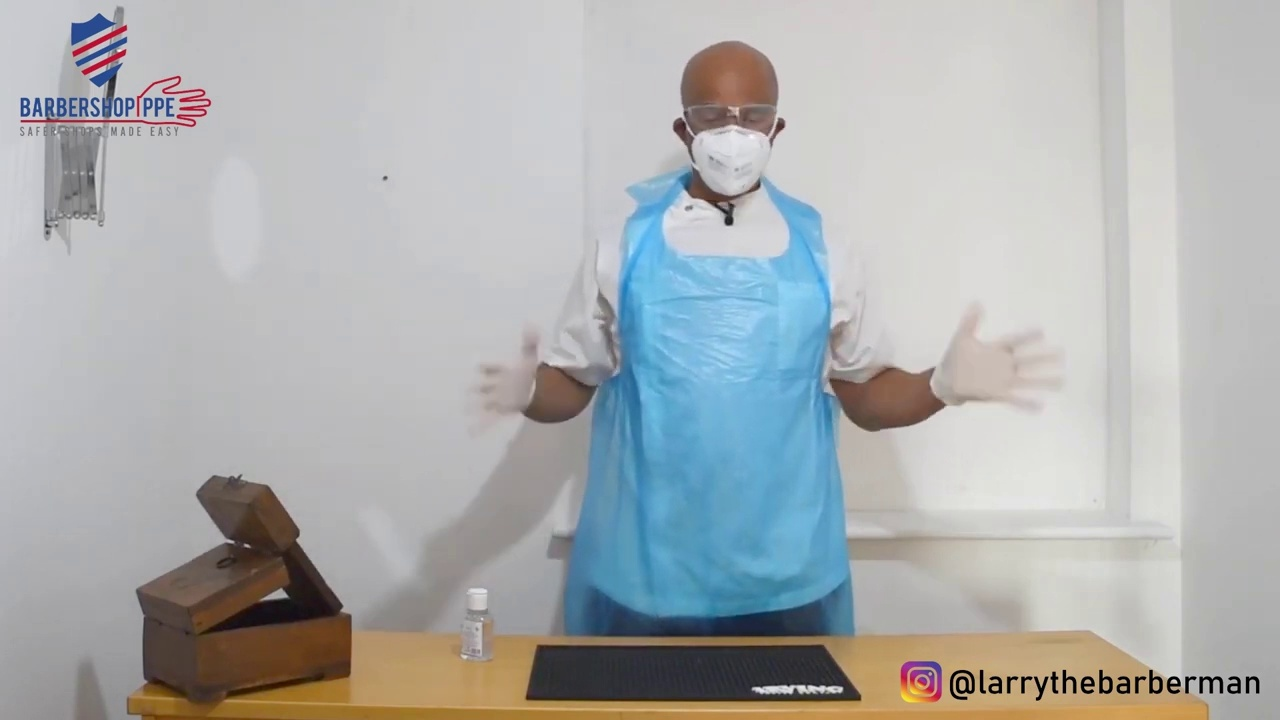Apron: (575, 173, 826, 655)
Glove: (928, 304, 1067, 415), (465, 324, 562, 442)
Mask: (633, 111, 794, 188)
No_Hairnet: (643, 37, 780, 90)
